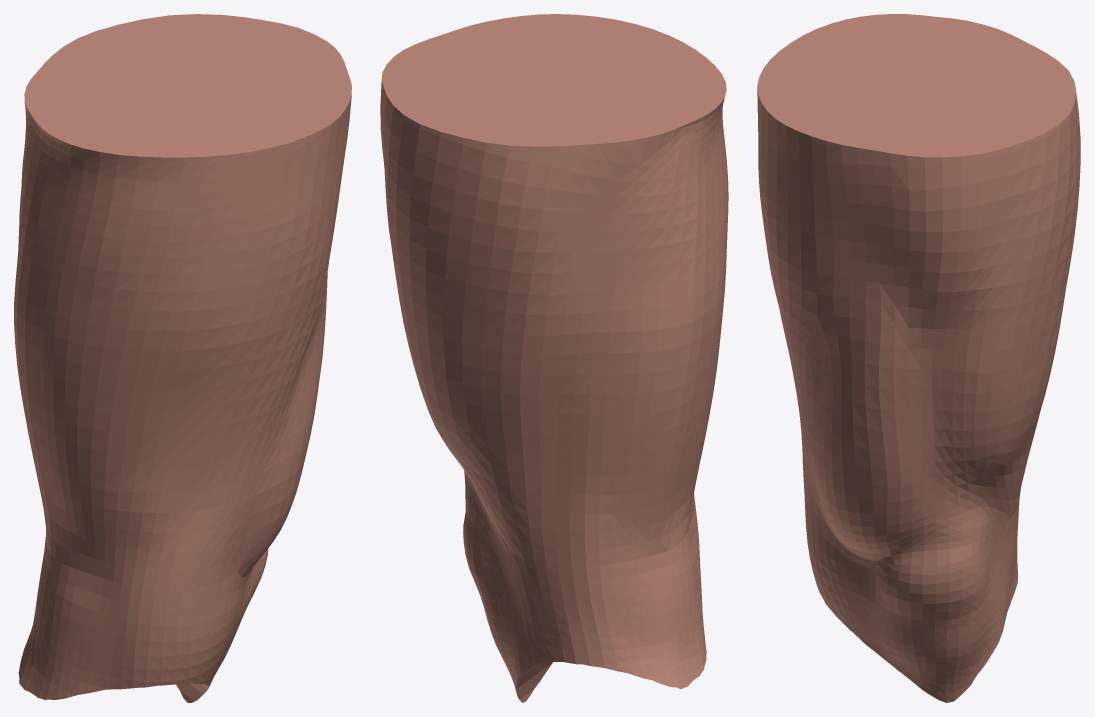
File: thigh.dae
3 renders of one model, left to right at view 1: azimuth 30°, elevation 25°; view 2: azimuth 150°, elevation 25°; view 3: azimuth 270°, elevation 25°, orthographic. The views are drawn at different scales.
Visible parts, largest first — view 1: Thigh-New; view 2: Thigh-New; view 3: Thigh-New.
Boxes of the visible parts, bbox=[...] form: Thigh-New: bbox=[14, 14, 351, 702]; Thigh-New: bbox=[380, 14, 728, 702]; Thigh-New: bbox=[757, 14, 1080, 702].
Size of the model in its own units: 0.1797 by 0.1663 by 0.3464.
